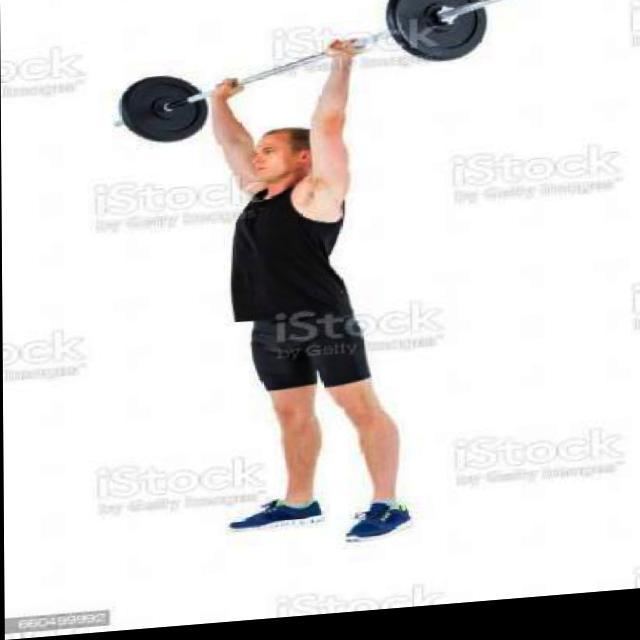barbell: (386, 1, 532, 71)
